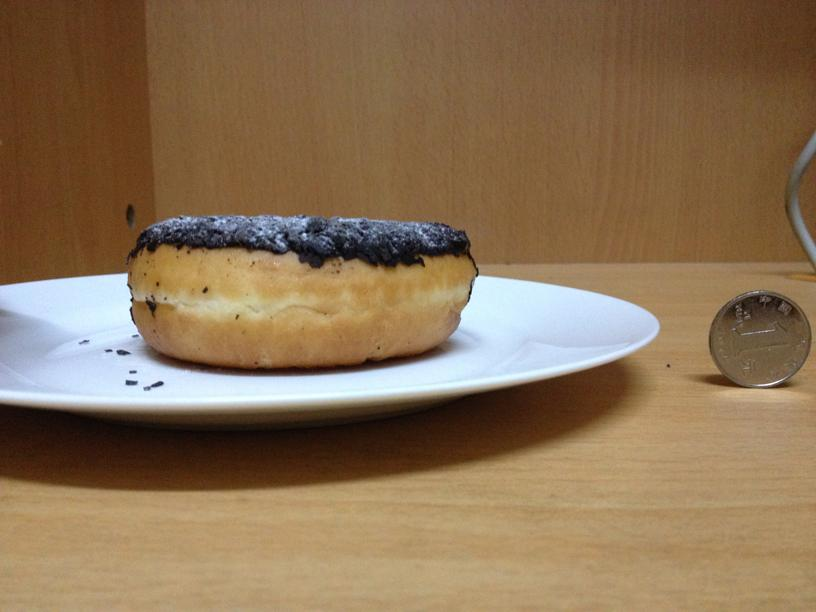coin: (710, 288, 810, 387)
doughnut: (126, 210, 476, 368)
